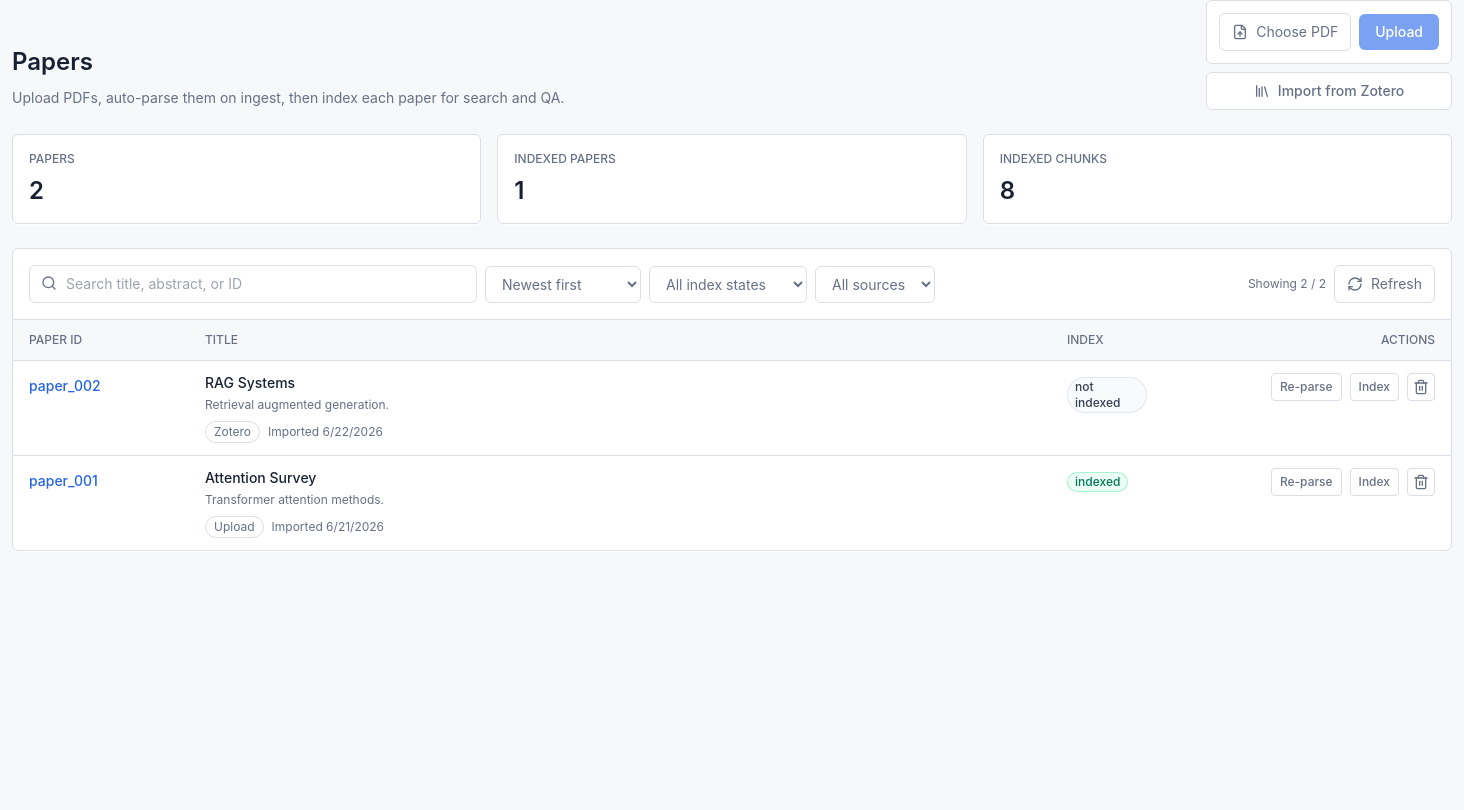
Test case: PapersPage › filters papers by search text
Check: the text "Attention Survey" is shown, box [205,469,316,486]
Type "rag" into the field with placeholder "Search title, abstract, or ID" at (253, 284), box [29,265,477,303]
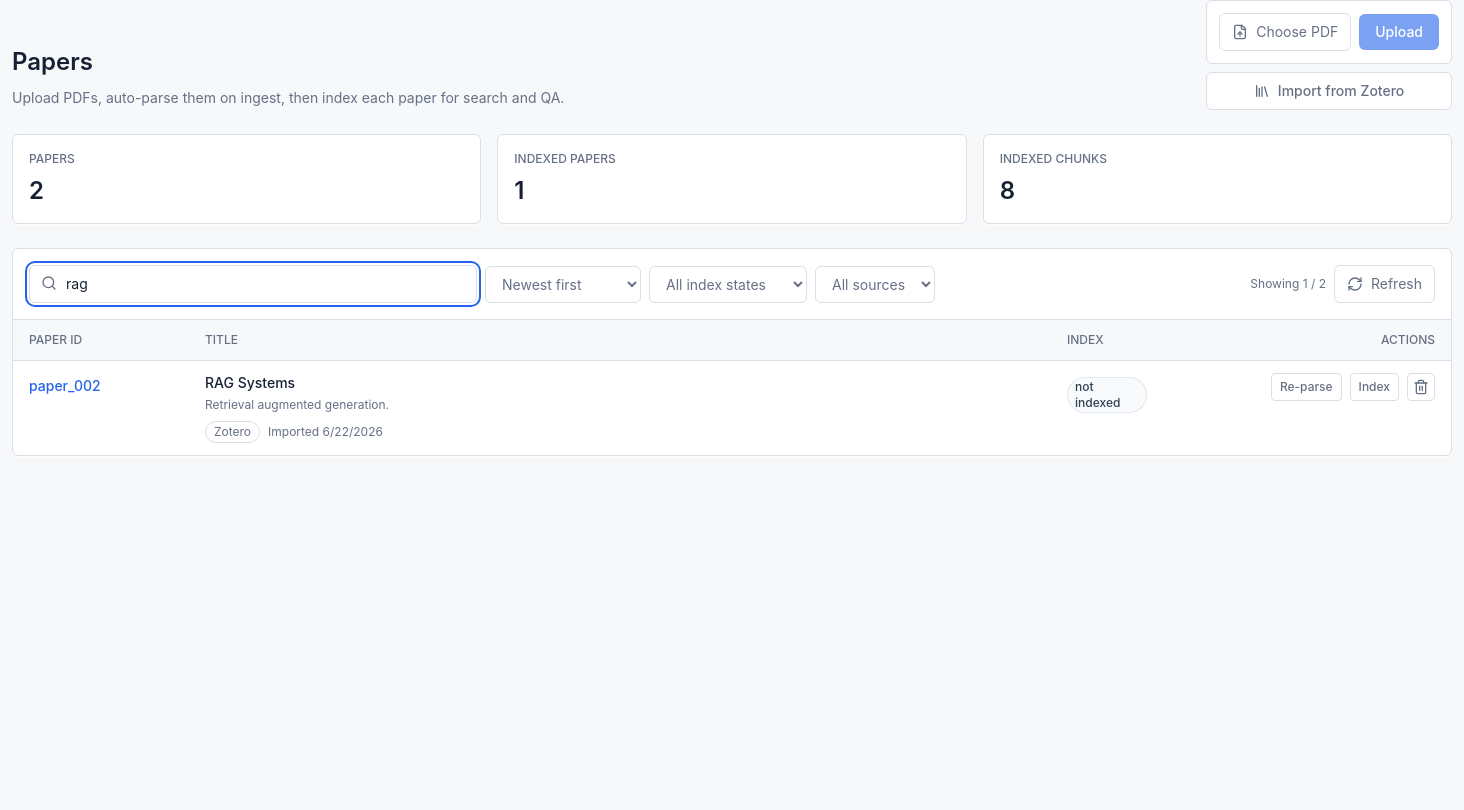
Check: the text "RAG Systems" is shown, box [205,374,295,391]
Check: the text "Attention Survey" is gone
